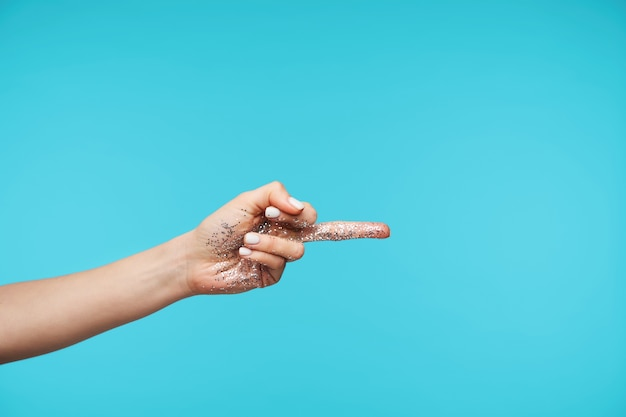insulting_gesture: (194, 179, 391, 296)
